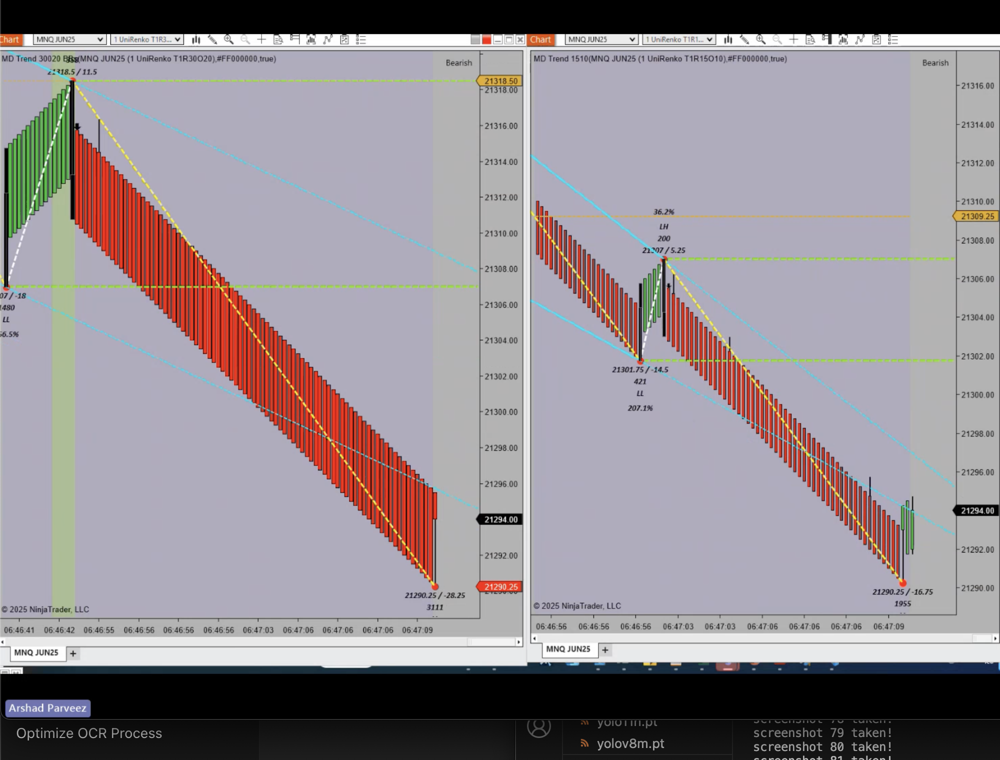LH: (656, 218, 669, 242)
LL: (631, 387, 653, 403), (1, 313, 16, 329)
